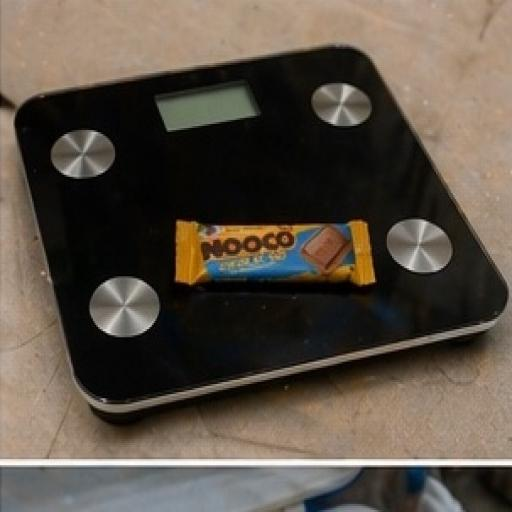nooco: (142, 182, 431, 328)
